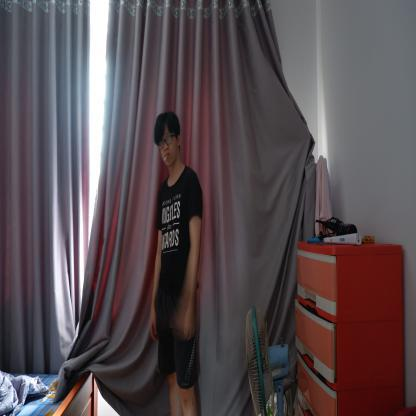cigarette: (164, 154, 167, 162)
person: (149, 112, 204, 415)
